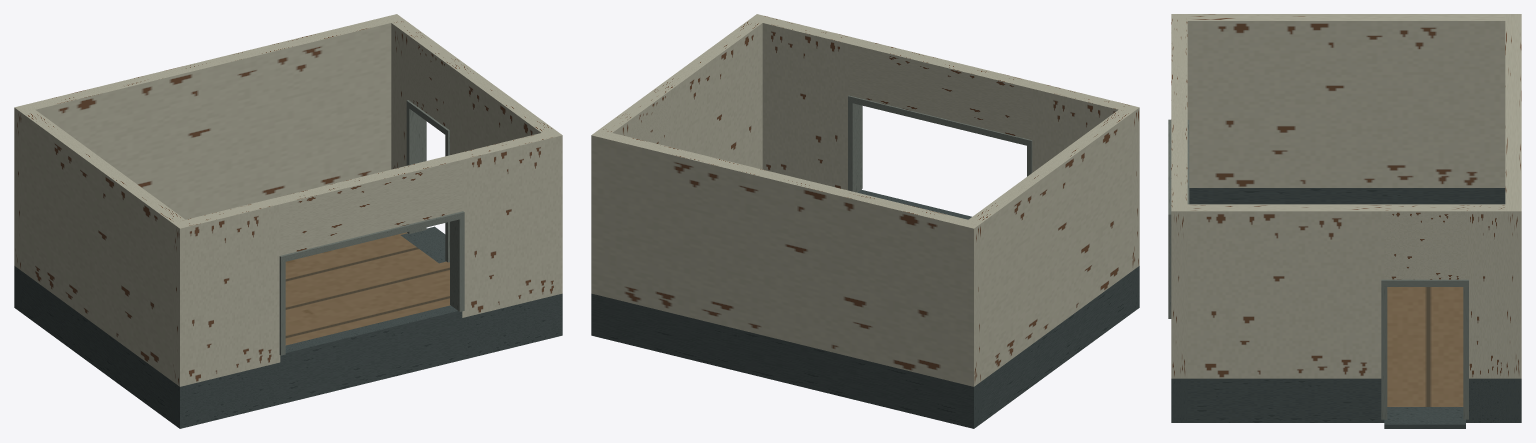
File: CabinShell.fbx
The picture shows the model from 3 angles, left to right: view 1: azimuth 30°, elevation 25°; view 2: azimuth 150°, elevation 25°; view 3: azimuth 270°, elevation 25°; orthographic projection. The views are drawn at different scales.
Parts seen in each view (by area): view 1: CabinShell; view 2: CabinShell; view 3: CabinShell.
Part boxes in pixels (box(x1,y1,x2,y2)): CabinShell: box(14, 14, 562, 428); CabinShell: box(591, 14, 1139, 428); CabinShell: box(1168, 14, 1521, 428).
Bounding box in the file's own units: 824 × 400 × 605.
